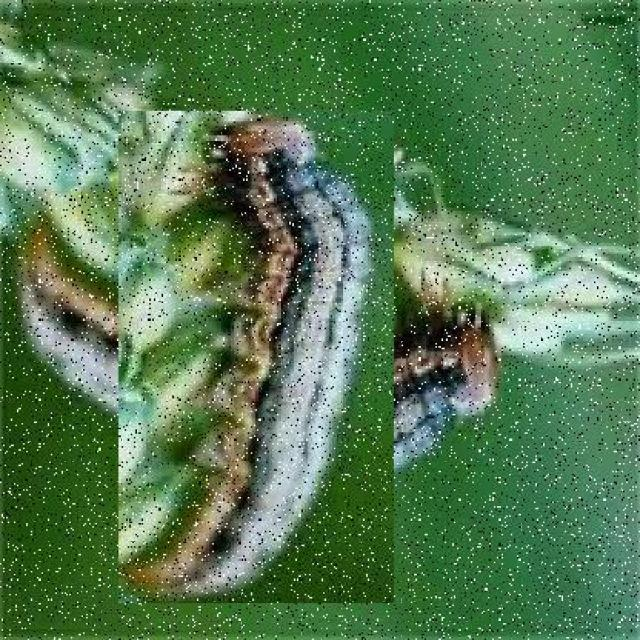Plaga: (65, 165, 451, 551)
